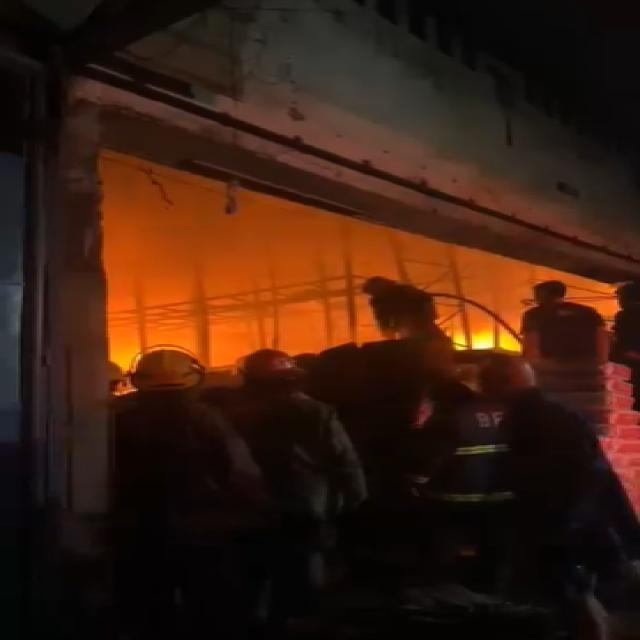Fire: (441, 324, 524, 351), (106, 348, 150, 368)
